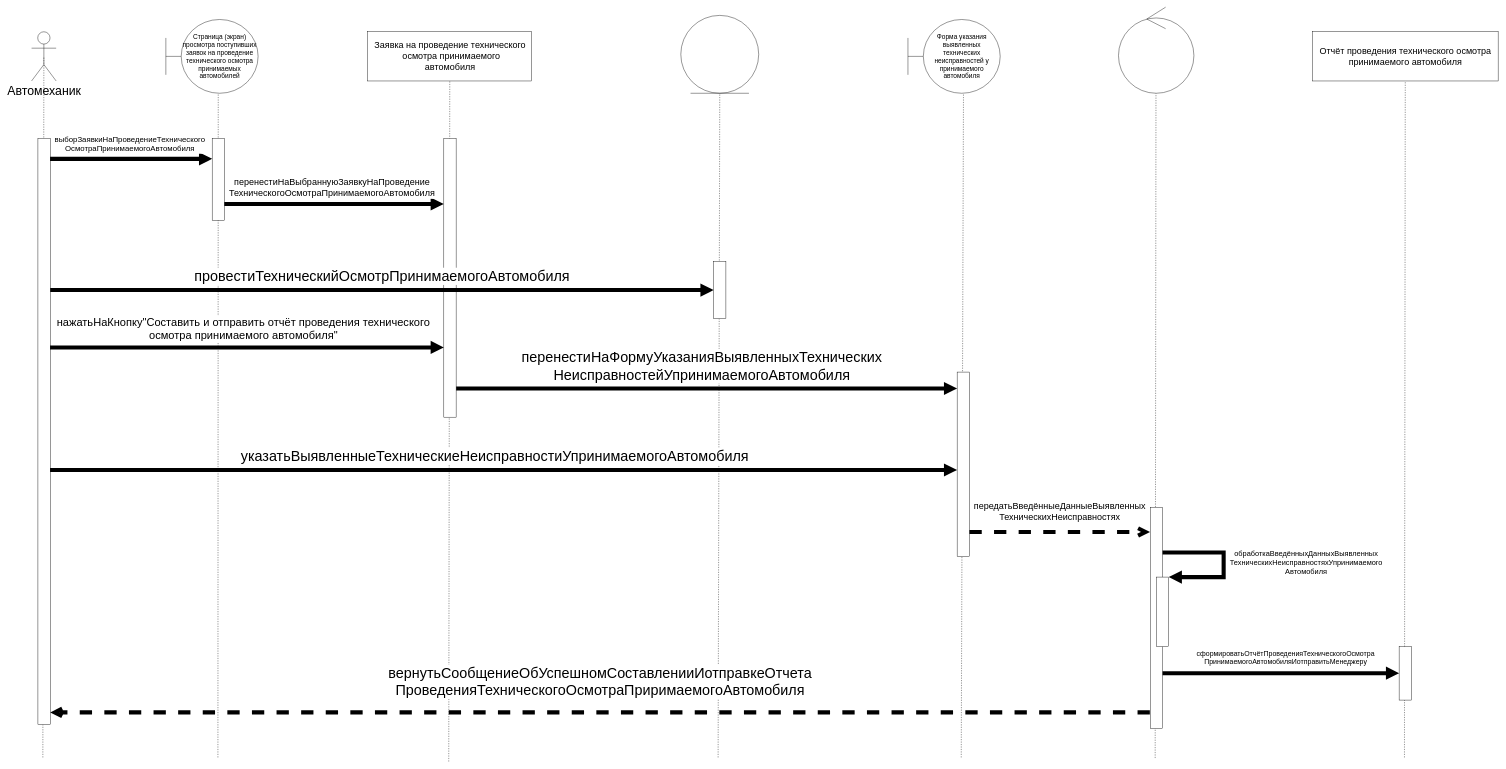
Some shapes in this 1506 by 769 pixel diagram are drawn without their labels. The shapes that lost their labels are listed below. From the top down, each one's box as (x1, y1, x2, y2) in pixels, then its label:
(680, 15, 759, 93): Автомобиль
(1118, 7, 1194, 93): Обработчик формы указания технических неисправностей у принимаемого автомобиля
